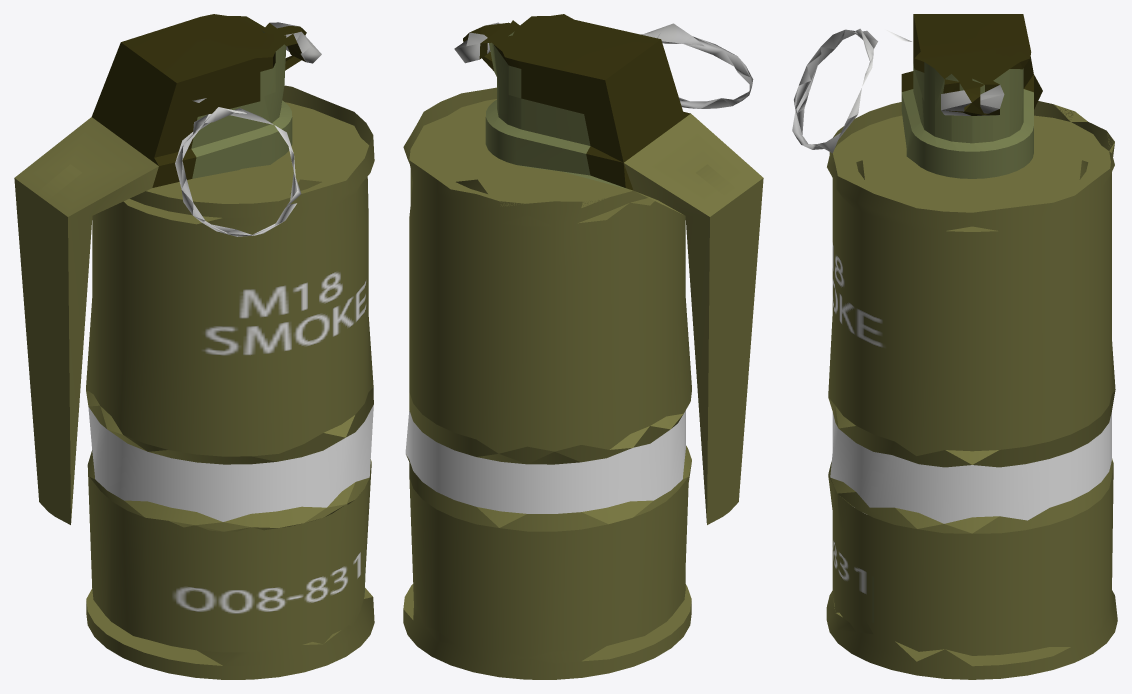
The model's file is AuthenticSmokeGrenade.fbx.
3 views of the same model, side by side, from view 1: azimuth 30°, elevation 25°; view 2: azimuth 150°, elevation 25°; view 3: azimuth 270°, elevation 25° (orthographic).
Visible parts, largest first — view 1: Canister; view 2: Canister; view 3: Canister.
Boxes of the visible parts, left/top/right/bottom form: Canister: left=14, top=14, right=374, bottom=679; Canister: left=403, top=14, right=763, bottom=679; Canister: left=792, top=14, right=1117, bottom=679.
Size of the model in its own units: 0.0729 by 0.1289 by 0.0669.
